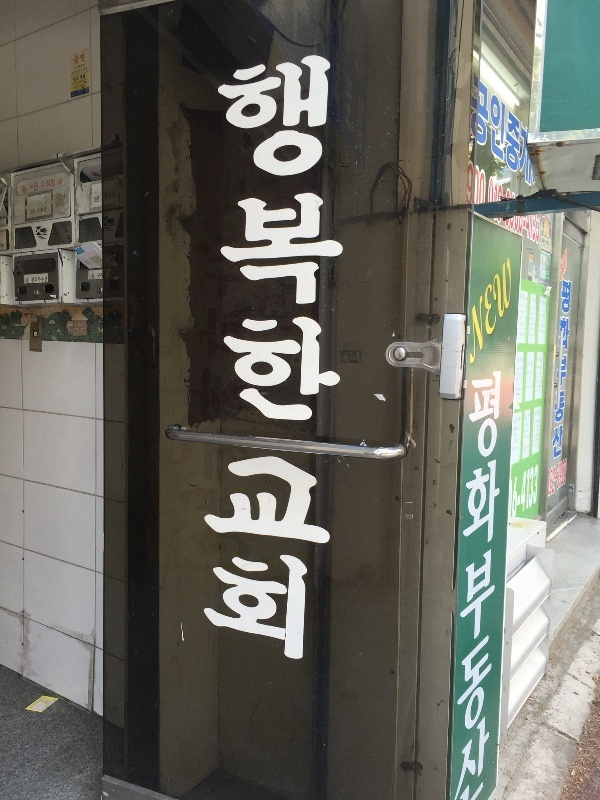text: (225, 46, 240, 427), (241, 46, 256, 427), (257, 46, 272, 427), (273, 46, 288, 427), (289, 46, 304, 427), (305, 46, 320, 427), (321, 46, 336, 427), (481, 544, 497, 800), (465, 544, 480, 800), (209, 438, 224, 672), (225, 438, 240, 672), (241, 438, 256, 672), (257, 438, 272, 672), (273, 438, 288, 672), (289, 438, 304, 672), (305, 438, 320, 672), (321, 438, 336, 672), (215, 46, 224, 427), (337, 46, 345, 427), (481, 368, 496, 559), (470, 368, 480, 559), (481, 251, 496, 372), (497, 251, 512, 372), (481, 69, 496, 176), (497, 69, 512, 176), (497, 368, 505, 559), (468, 251, 480, 372), (459, 544, 464, 800), (561, 316, 571, 425), (209, 365, 224, 425), (225, 365, 240, 425), (513, 69, 521, 176), (209, 305, 224, 362), (225, 305, 240, 362), (514, 463, 528, 521), (225, 251, 240, 305), (473, 69, 480, 176), (241, 305, 254, 362), (205, 438, 208, 672), (241, 365, 251, 425), (529, 463, 539, 521), (531, 296, 544, 339), (514, 415, 528, 454), (562, 278, 576, 316), (468, 162, 480, 205), (529, 124, 537, 187), (241, 251, 250, 305), (337, 438, 339, 672), (549, 457, 560, 499), (517, 356, 528, 398), (521, 124, 528, 187), (534, 410, 544, 450), (529, 214, 541, 244), (202, 365, 208, 425), (521, 292, 528, 339), (552, 422, 560, 460), (561, 457, 568, 499), (537, 357, 544, 394), (561, 246, 567, 285), (513, 216, 524, 236), (220, 251, 224, 305), (481, 162, 485, 205), (205, 305, 208, 362), (490, 175, 496, 203), (497, 175, 503, 203), (529, 360, 534, 392), (504, 216, 512, 236), (540, 300, 544, 336), (71, 78, 80, 92), (513, 251, 514, 372), (525, 412, 528, 452), (529, 412, 532, 452), (524, 214, 528, 244), (561, 422, 564, 460), (33, 276, 48, 283), (97, 273, 112, 280), (71, 87, 80, 98), (341, 354, 352, 363), (100, 272, 112, 280), (73, 52, 80, 65), (1, 243, 16, 249), (37, 206, 48, 214), (81, 78, 87, 92), (41, 178, 48, 190), (49, 178, 56, 190), (530, 249, 544, 255), (72, 66, 80, 76), (104, 191, 112, 201), (67, 235, 80, 241), (81, 87, 88, 98), (545, 300, 547, 336), (353, 354, 361, 363), (81, 66, 88, 76), (507, 186, 512, 199), (545, 237, 550, 249), (81, 52, 85, 65), (511, 479, 512, 530), (33, 182, 38, 192), (73, 76, 80, 83), (25, 277, 32, 284), (89, 273, 96, 280), (88, 260, 96, 266), (65, 223, 69, 234), (540, 269, 544, 280), (74, 63, 80, 70), (497, 218, 503, 225), (559, 246, 560, 285), (541, 237, 544, 249), (527, 360, 528, 392), (29, 182, 32, 192), (113, 191, 116, 201), (81, 63, 85, 70), (81, 73, 85, 80), (513, 186, 515, 199), (347, 351, 352, 356), (108, 272, 112, 278), (542, 255, 544, 267), (97, 196, 100, 203), (493, 218, 496, 225), (545, 260, 547, 269), (30, 209, 32, 216), (33, 209, 35, 216), (94, 196, 96, 203), (545, 269, 546, 280), (353, 351, 355, 356), (79, 73, 80, 80)
